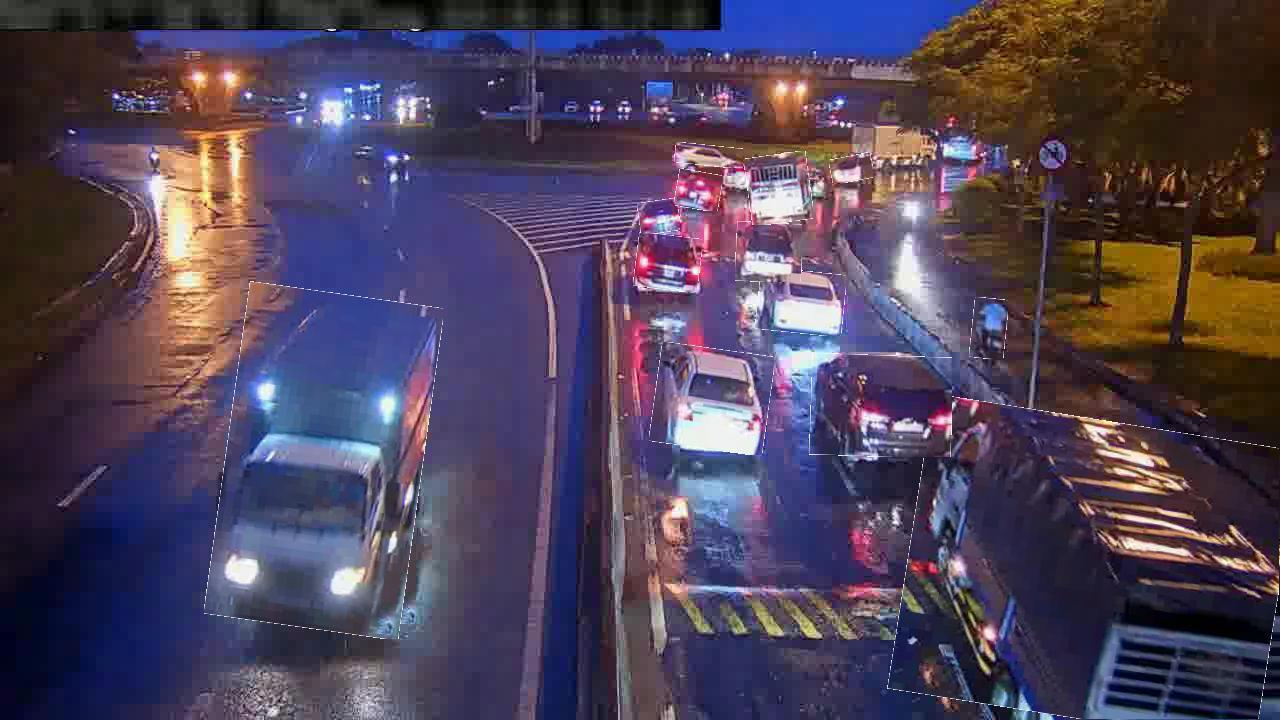8: (897, 407, 1279, 719), (215, 287, 433, 634), (746, 153, 812, 225)
container: (810, 354, 953, 457), (652, 346, 772, 453), (757, 269, 846, 335), (736, 222, 803, 283), (634, 234, 702, 292), (676, 170, 722, 211), (675, 144, 744, 168), (638, 200, 680, 234), (830, 154, 874, 183)
motorbike: (970, 298, 1008, 360)
